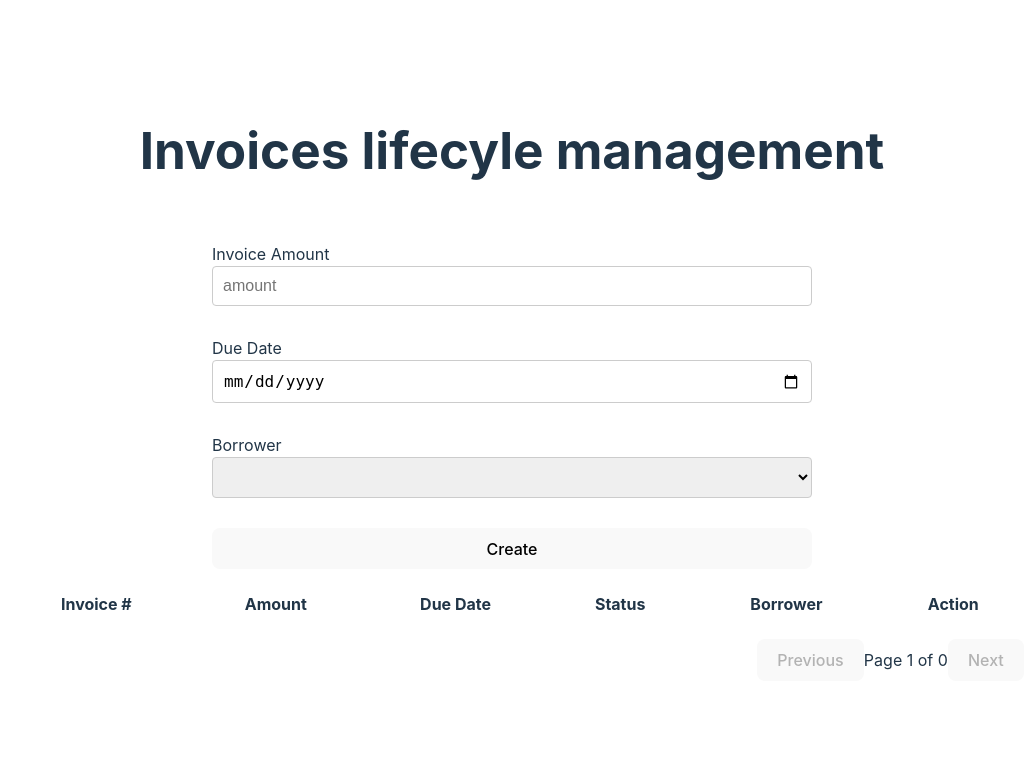
Scenario: Simple working test › should add a new invoice on form submission
In the field with placeholder "amount": (512, 286) [212,266,812,306], type "300"
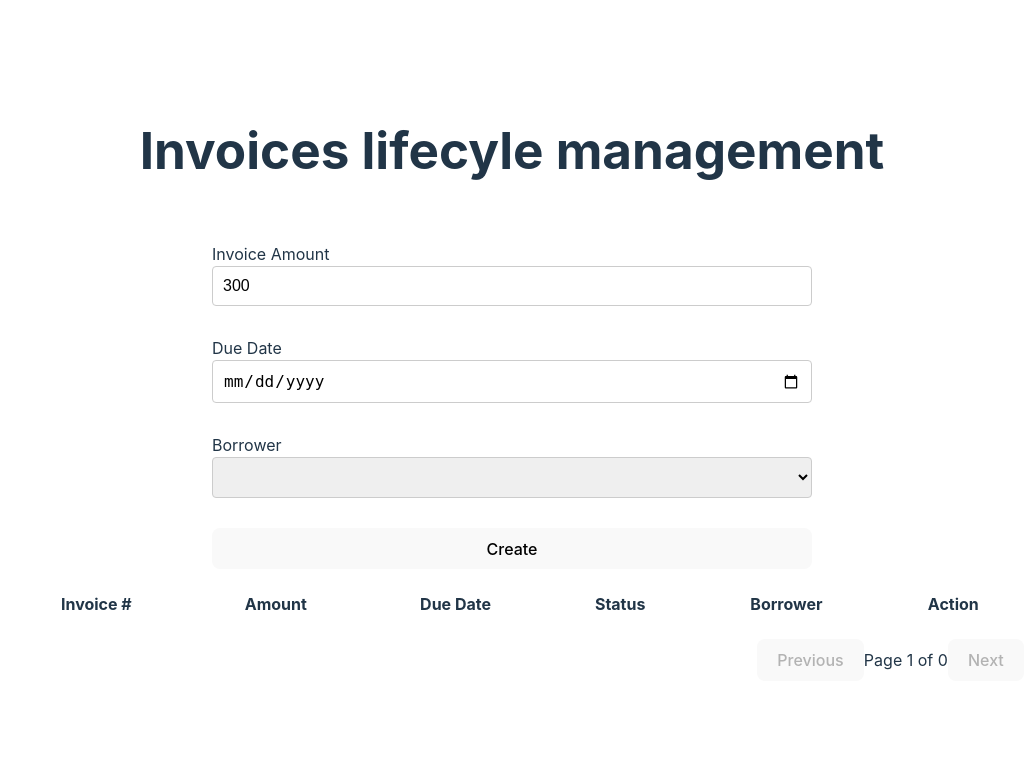
Select "1" in the dropdown: (512, 478) [212,457,812,498]
In the date field with test id "due": (512, 382) [212,360,812,403], type "2023-07-03"
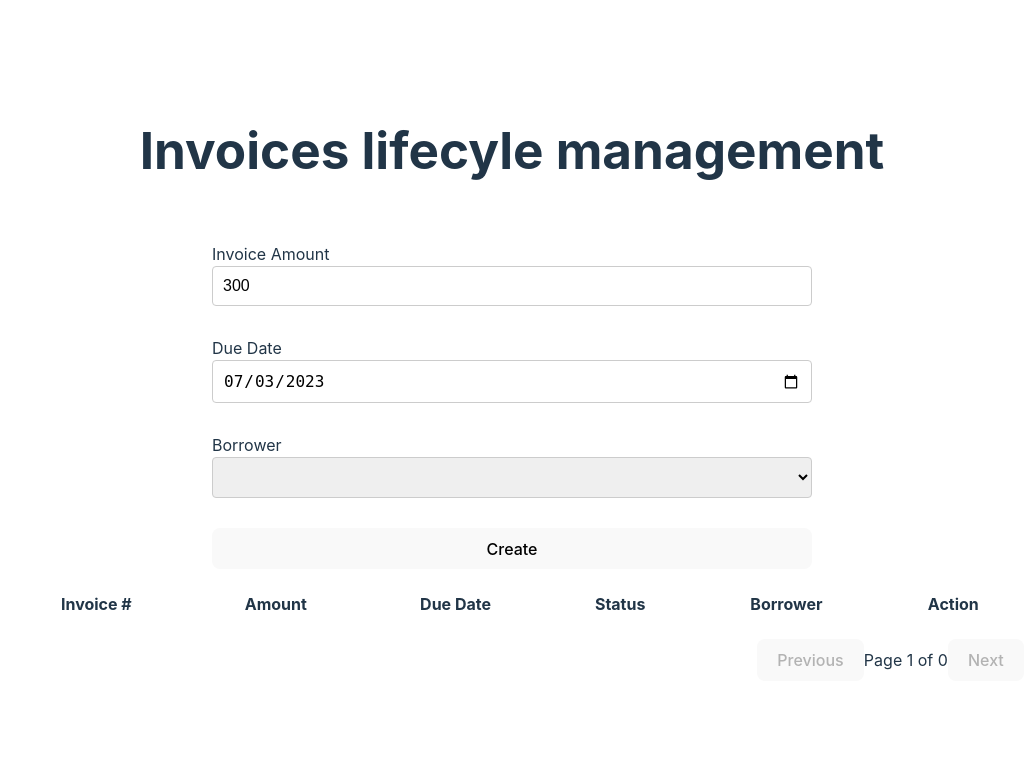
Click the button "Create": (512, 549) [212,528,812,570]
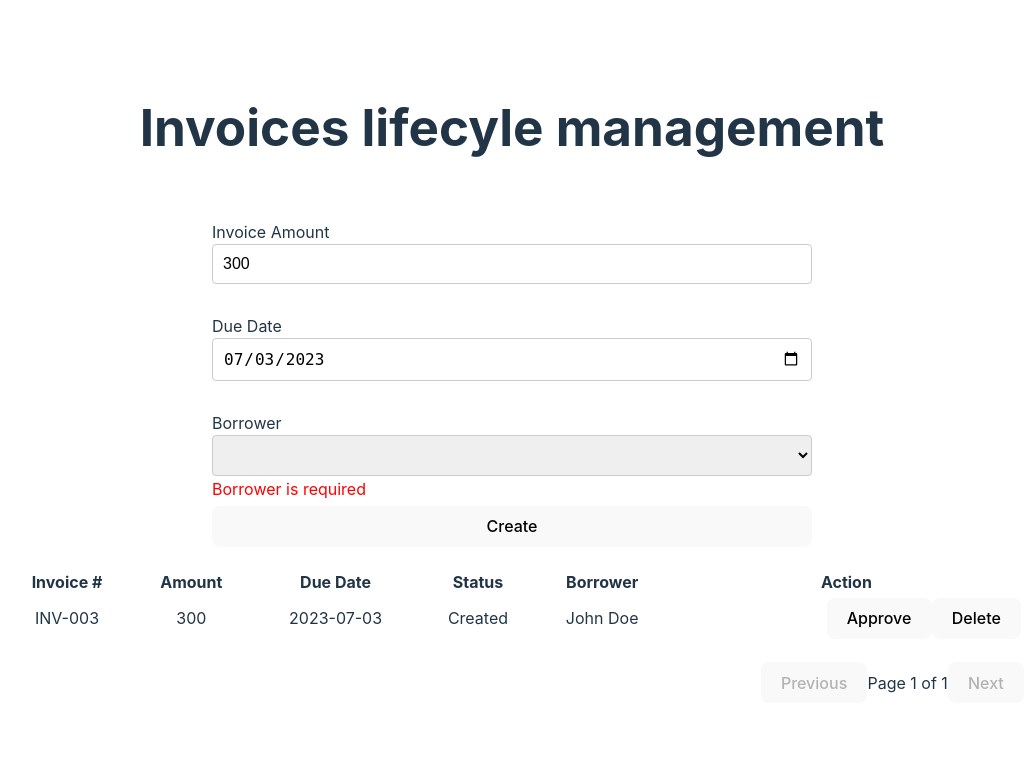
Expected: the text "INV-003" is shown, [2,597,132,640]
